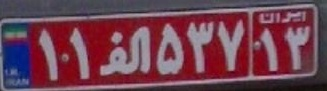character: (95, 23, 155, 84), (183, 18, 217, 80), (154, 18, 186, 82), (215, 14, 247, 78), (63, 22, 95, 83), (32, 27, 63, 87), (282, 23, 314, 72), (256, 24, 282, 74)
